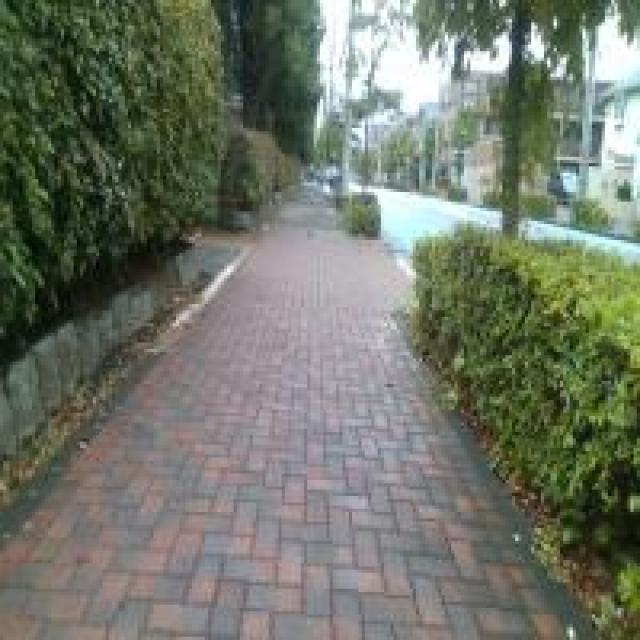Obstacle: (406, 221, 639, 639), (343, 191, 389, 238)
Road: (351, 184, 500, 256), (521, 220, 639, 260)
Sidewalk: (0, 208, 567, 639)
